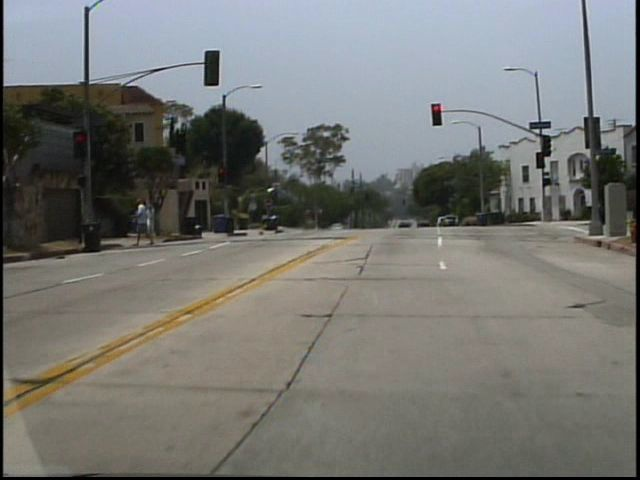person: (136, 194, 158, 245), (149, 200, 163, 245)
